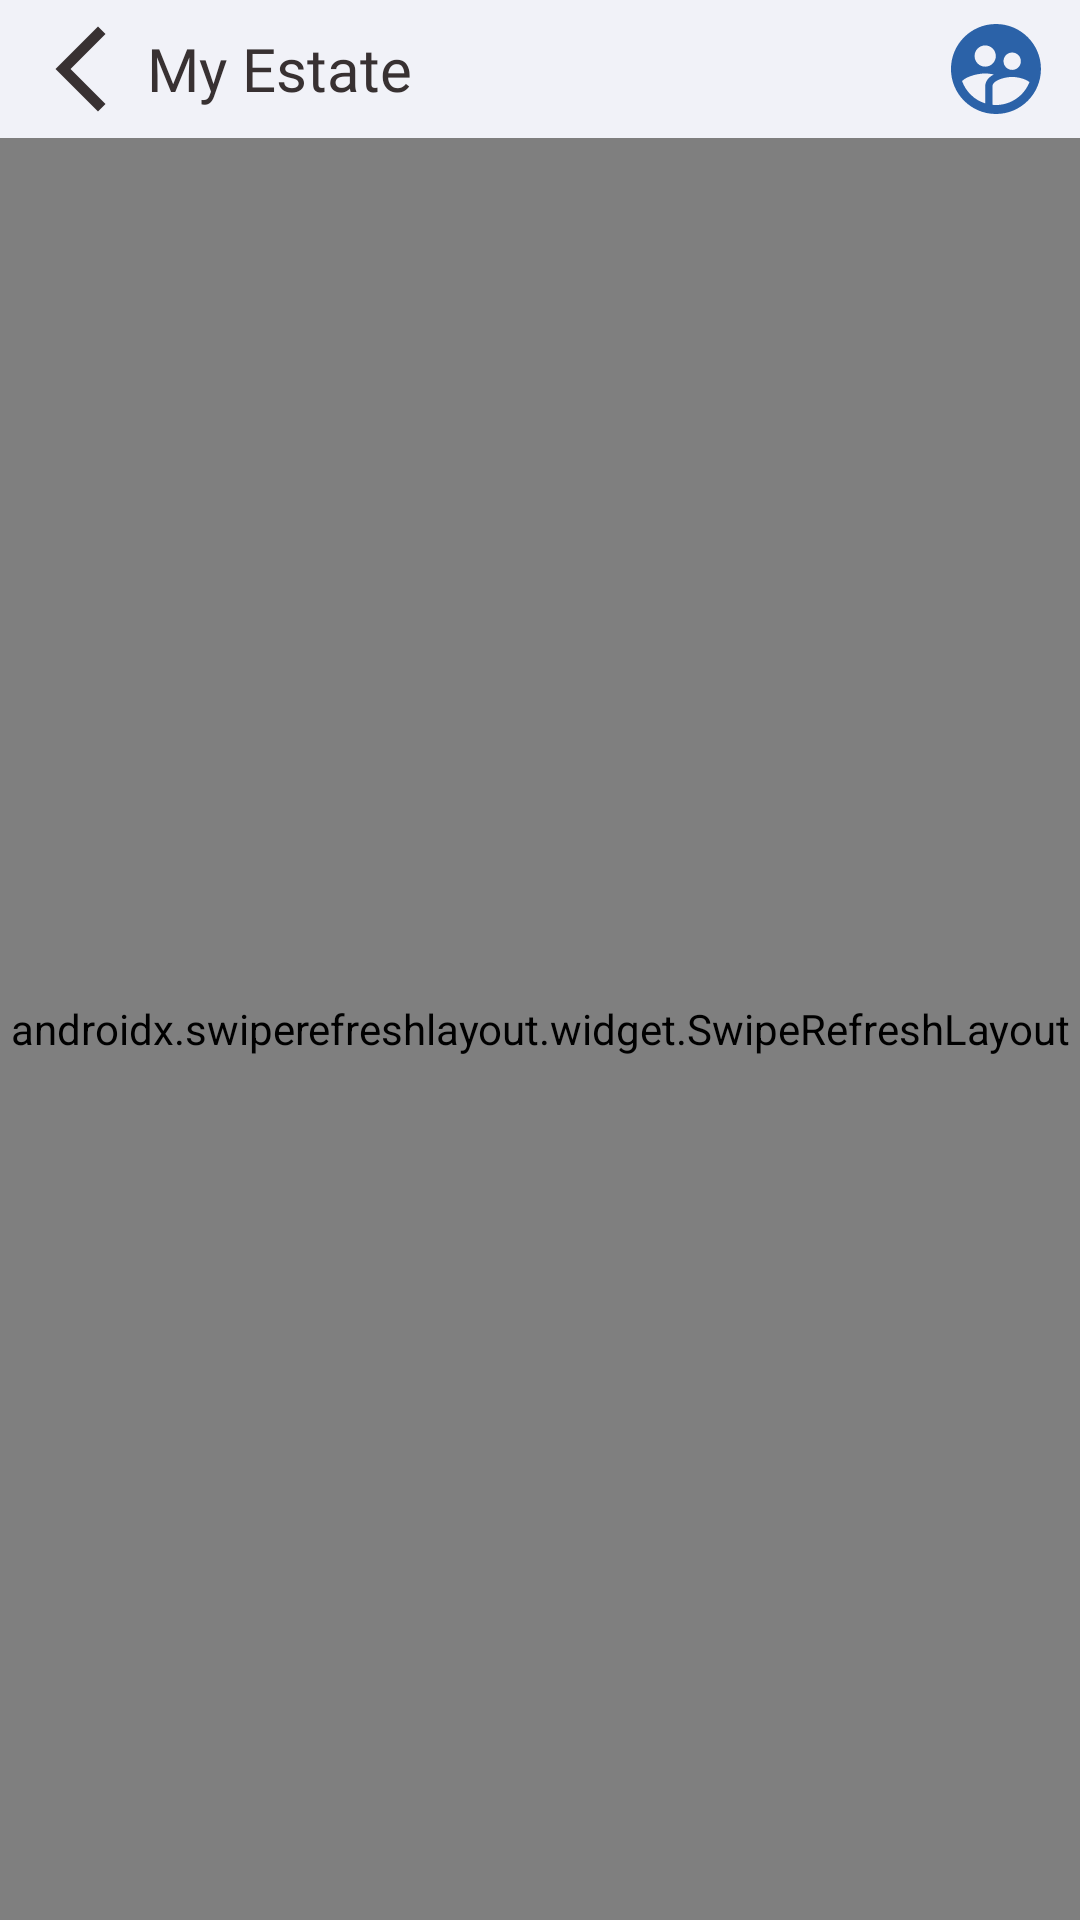

Named icons in this screenshot (1080 × 1920) and their bounding boxes, BBox(x1, y1, x2, y2):
back: BBox(56, 27, 105, 112)
user: BBox(951, 24, 1041, 114)
